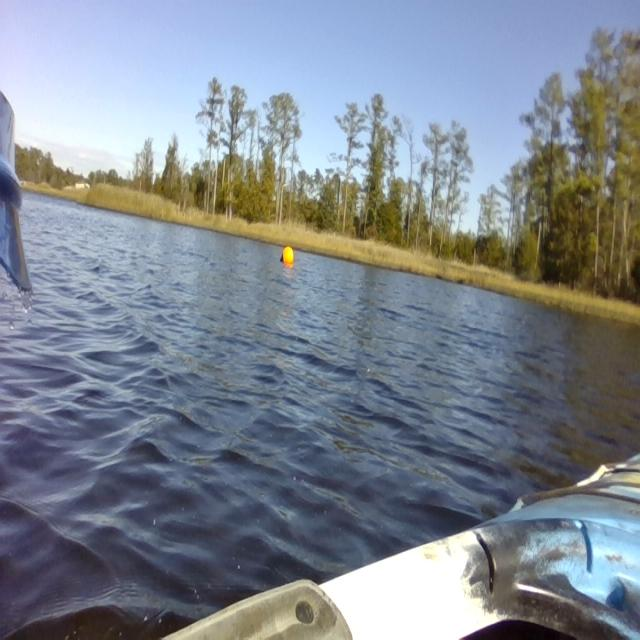Buoy: (279, 241, 296, 269)
